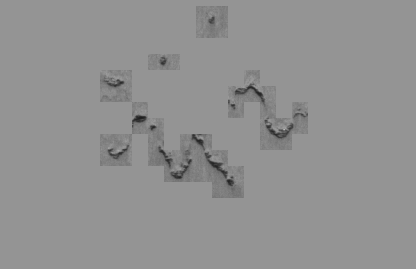oxl: (35, 10, 381, 259)
